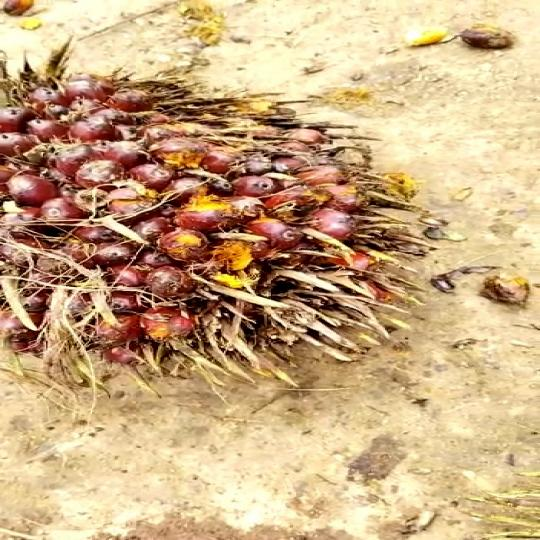masak: (0, 56, 446, 391)
